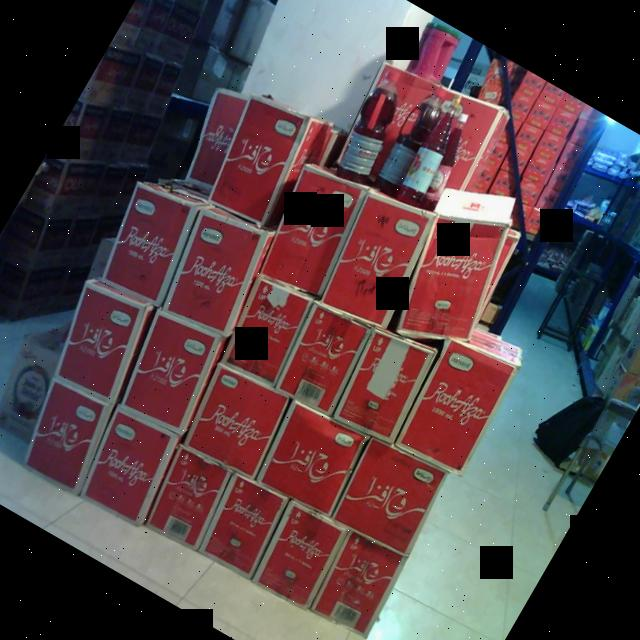box: (378, 202, 522, 361), (391, 330, 521, 480), (249, 162, 378, 306), (149, 202, 279, 342), (312, 191, 441, 332), (326, 429, 454, 562), (194, 94, 318, 230), (248, 396, 377, 526), (86, 177, 210, 310), (34, 279, 160, 409), (108, 304, 232, 436), (266, 295, 383, 423), (178, 358, 298, 482), (70, 402, 188, 528), (9, 374, 126, 494), (328, 326, 440, 446), (212, 272, 322, 393), (137, 435, 245, 555), (245, 498, 354, 614), (305, 528, 408, 640), (192, 470, 294, 580)
